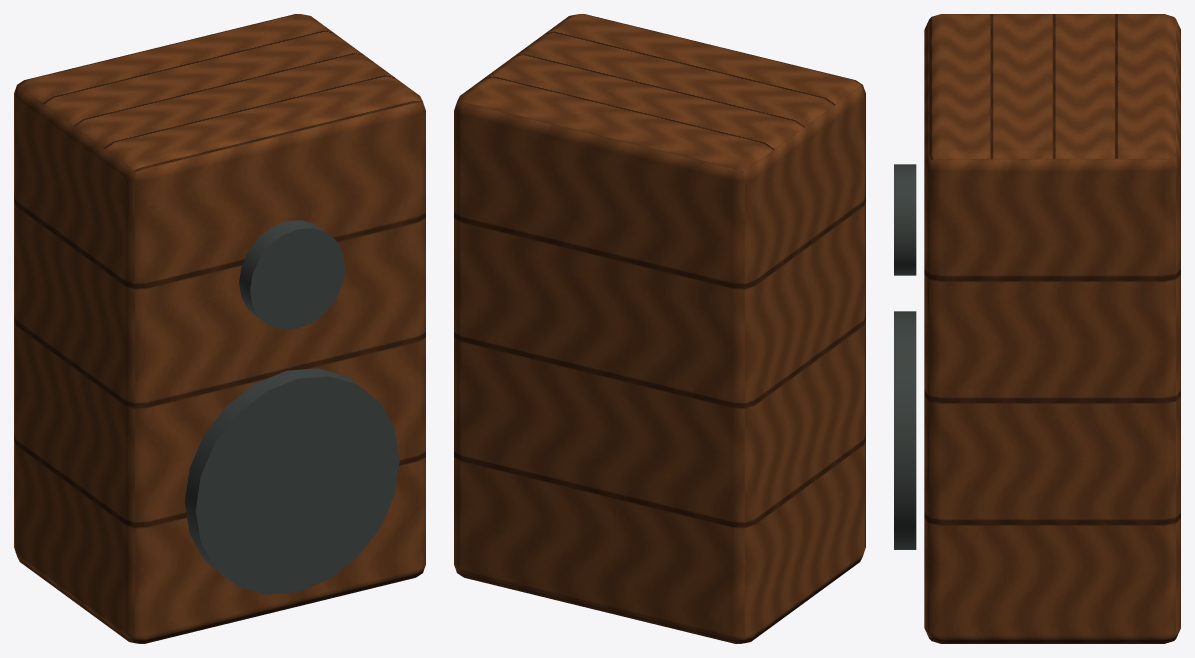
Rendered from scavengers-loot-library-speaker-cabinet-0b96df47__2484.glb.
3 views of the same model, side by side, from view 1: azimuth 30°, elevation 25°; view 2: azimuth 150°, elevation 25°; view 3: azimuth 270°, elevation 25° (orthographic). The views are drawn at different scales.
Parts seen in each view (by area): view 1: speaker-cabinet; view 2: speaker-cabinet; view 3: speaker-cabinet.
Boxes of the visible parts, left/top/right/bottom form: speaker-cabinet: left=14, top=14, right=425, bottom=643; speaker-cabinet: left=454, top=14, right=865, bottom=643; speaker-cabinet: left=894, top=14, right=1180, bottom=643.
Size of the model in its own units: 0.22 by 0.34 by 0.179.
2 materials, 1 textured.
